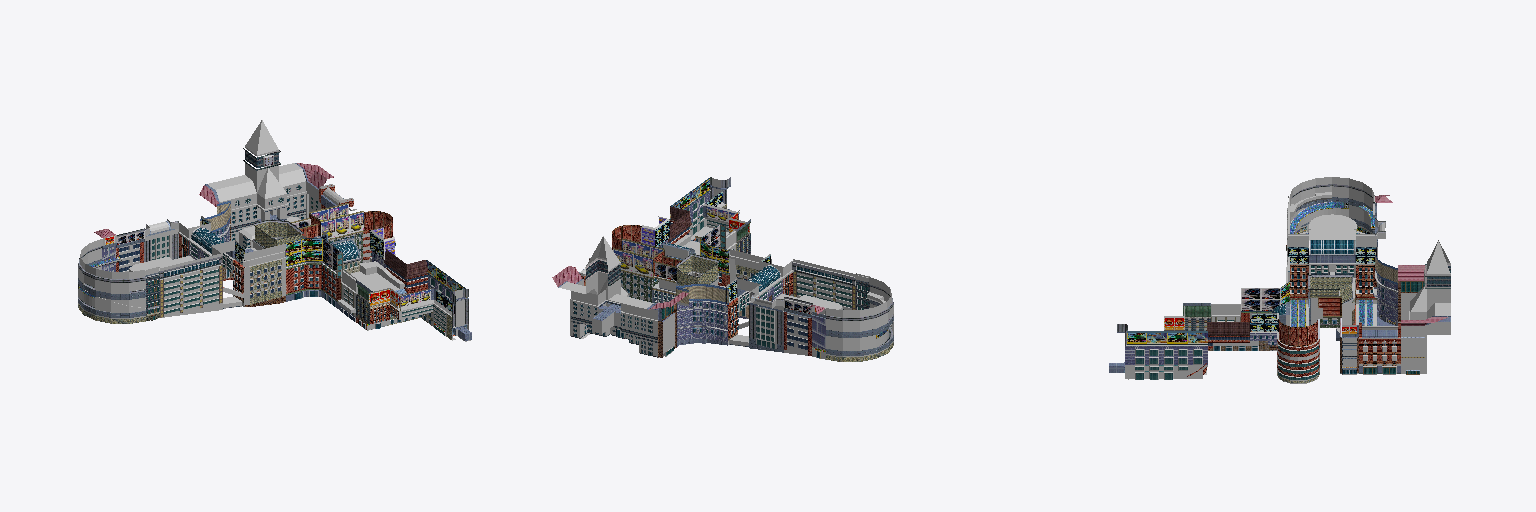
The picture shows the model from 3 angles: view 1: azimuth 30°, elevation 25°; view 2: azimuth 150°, elevation 25°; view 3: azimuth 270°, elevation 25°; orthographic projection.
Bounding box in the file's own units: 2070 × 777 × 2094.
89 materials, 64 textured.